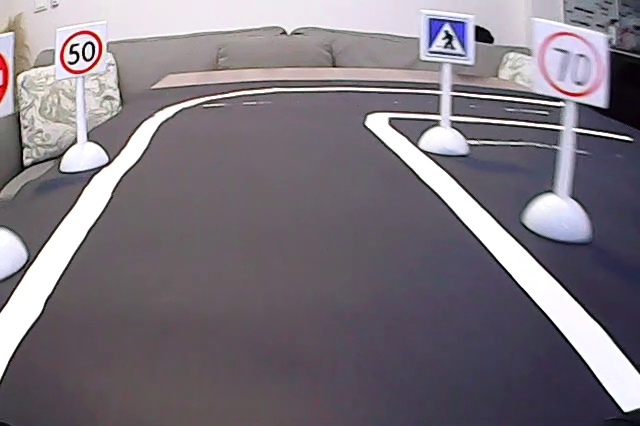pedestrian crossing: (427, 14, 471, 61)
speed limit 50: (58, 26, 103, 78)
speed limit 70: (536, 25, 603, 98)
